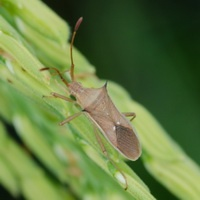insect: (40, 17, 140, 160)
